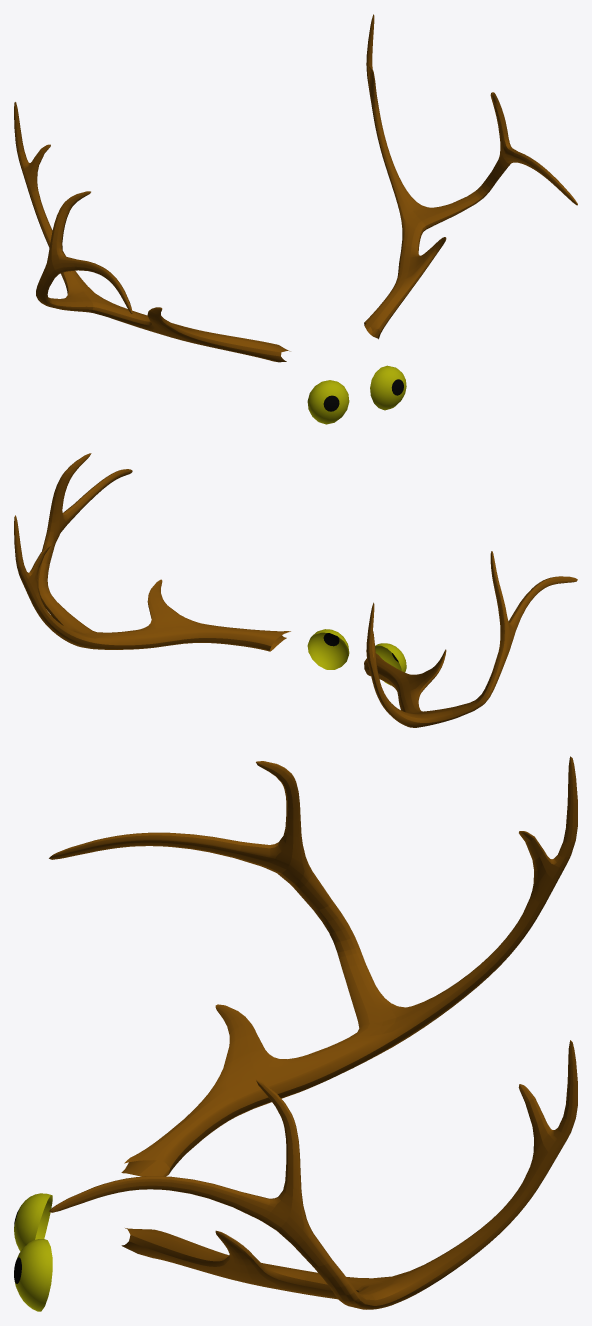
The model's file is deer.fbx.
The picture shows the model from 3 angles, top to bottom: view 1: azimuth 30°, elevation 25°; view 2: azimuth 150°, elevation 25°; view 3: azimuth 270°, elevation 25°; orthographic projection. The views are drawn at different scales.
Parts seen in each view (by area): view 1: Mesh, polySurface1, polySurface2; view 2: Mesh, polySurface2, polySurface1; view 3: Mesh, polySurface2, polySurface1.
Boxes of the visible parts, box(x1,y1,x2,y2) form: Mesh: box(14, 14, 577, 362); polySurface1: box(307, 380, 349, 424); polySurface2: box(370, 365, 406, 410); Mesh: box(14, 453, 577, 727); polySurface2: box(307, 629, 349, 669); polySurface1: box(375, 643, 406, 685); Mesh: box(49, 756, 577, 1309); polySurface2: box(14, 1239, 52, 1311); polySurface1: box(14, 1193, 52, 1251).
Size of the model in its own units: 202 by 99.95 by 132.
